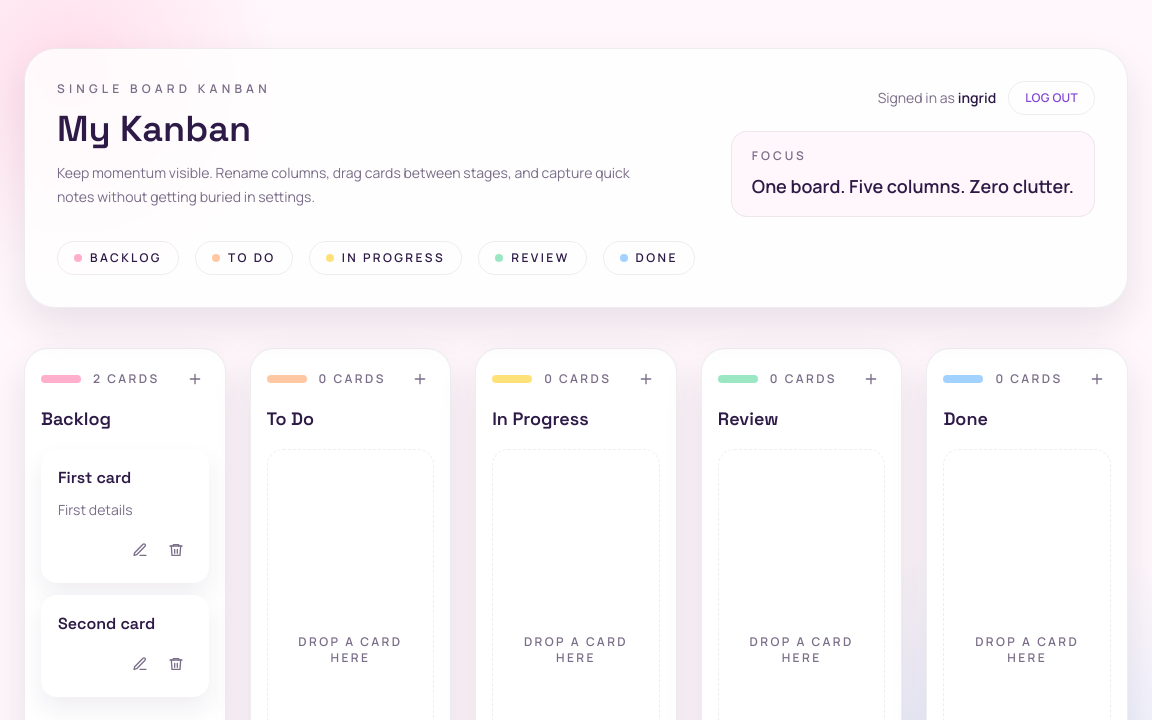
Test: KanbanBoard › shows an error when a save fails
Click the button named "Delete First card": point(176, 550) [160, 534, 192, 566]
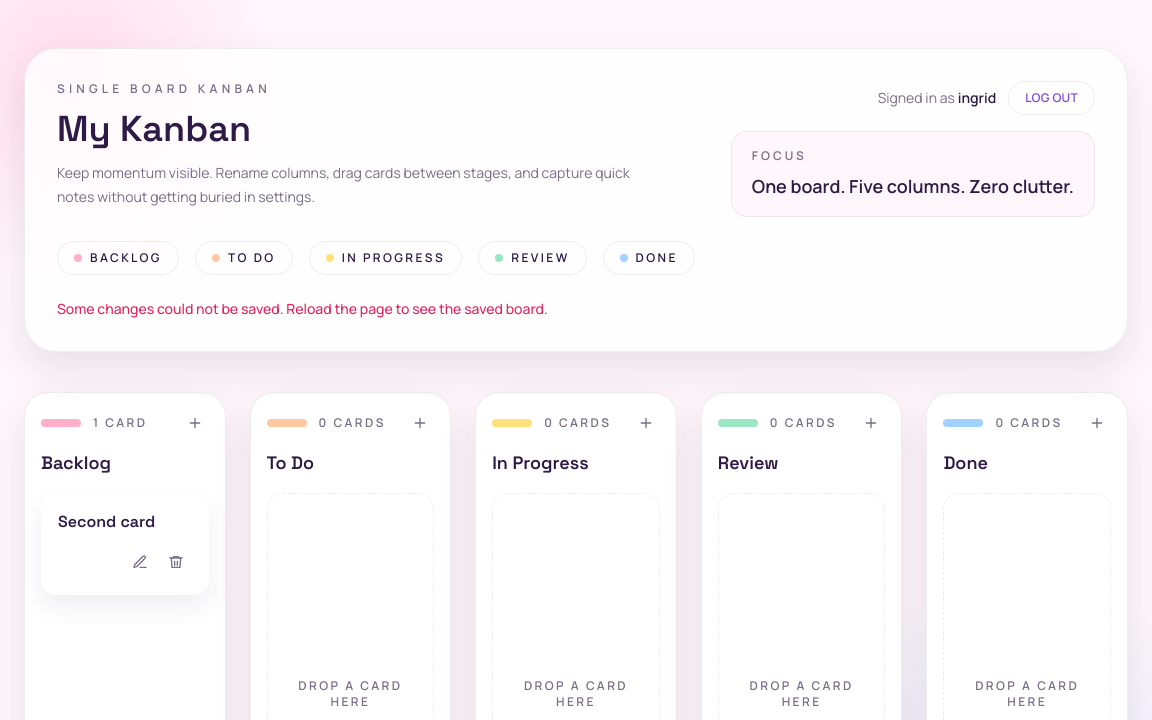
Expected: the message shows "could not be saved", [57, 299, 548, 318]
